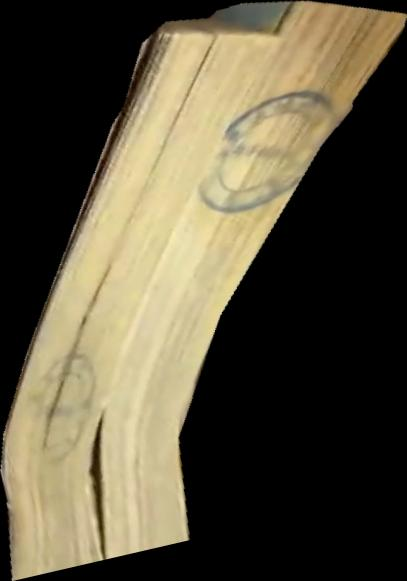backward: (1, 1, 407, 581)
